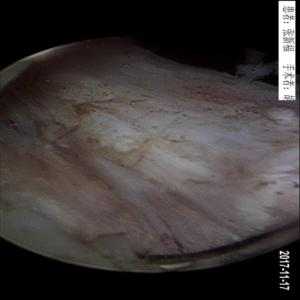film: (41, 109, 285, 242)
